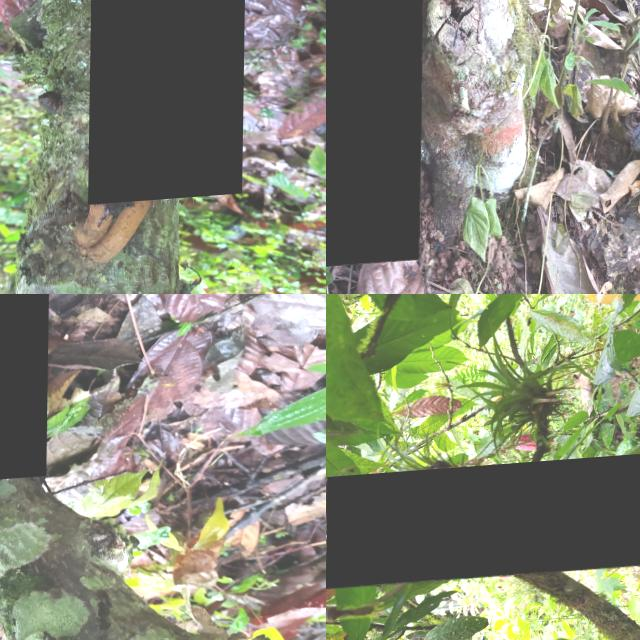Fitoftora: (383, 0, 417, 79)
Monilia: (89, 0, 246, 208), (0, 294, 50, 488)
Sana: (326, 457, 640, 590), (326, 0, 424, 272)
